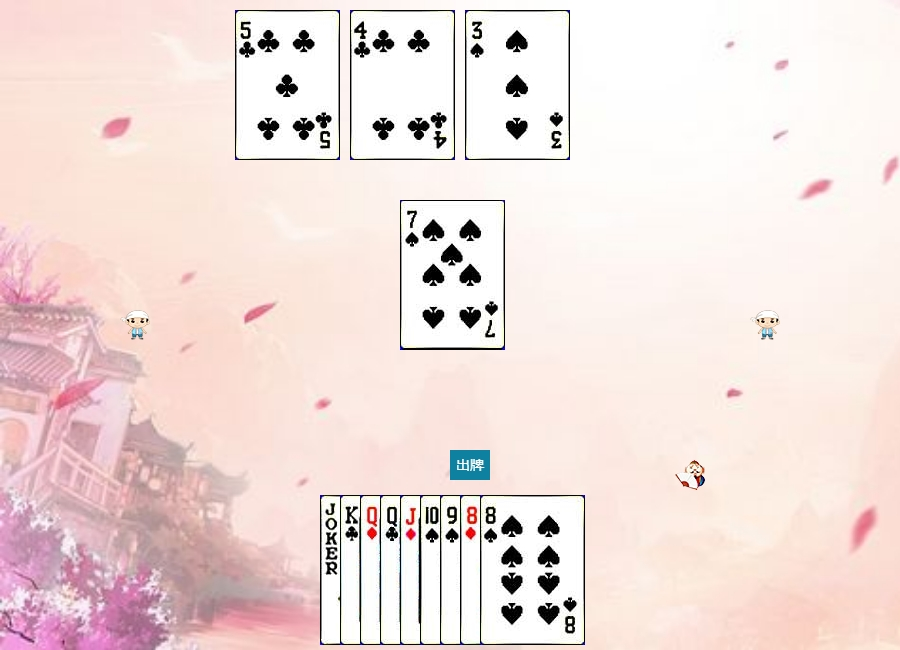10~4: (420, 495, 525, 645)
11~1: (400, 495, 505, 645)
12~1: (360, 495, 465, 645)
12~2: (380, 495, 485, 645)
13~2: (340, 495, 445, 645)
17~3: (320, 495, 425, 645)
3~4: (465, 10, 570, 160)
4~2: (350, 10, 455, 160)
5~2: (235, 10, 340, 160)
7~4: (400, 200, 505, 350)
8~1: (460, 495, 565, 645)
8~4: (480, 495, 585, 645)
9~4: (440, 495, 545, 645)
